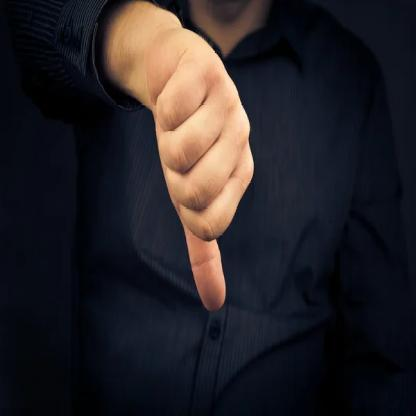thumb_down: (143, 34, 261, 322)
